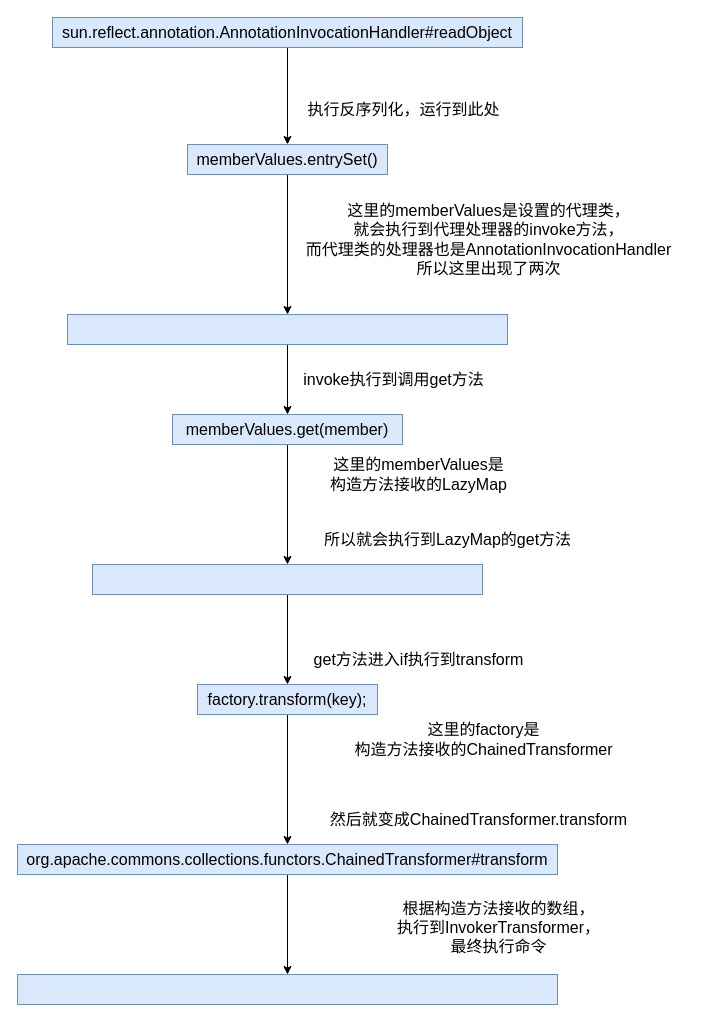
This 701x1022 diagram has some shape labels left out. The centre of each missing label's shape, as x and y in pixels:
"org.apache.commons.collections.functors.InvokerTransformer#transform" goes at (287,989).
"org.apache.commons.collections.map.LazyMap#get" goes at (287,579).
"sun.reflect.annotation.AnnotationInvocationHandler#invoke" goes at (287,329).
